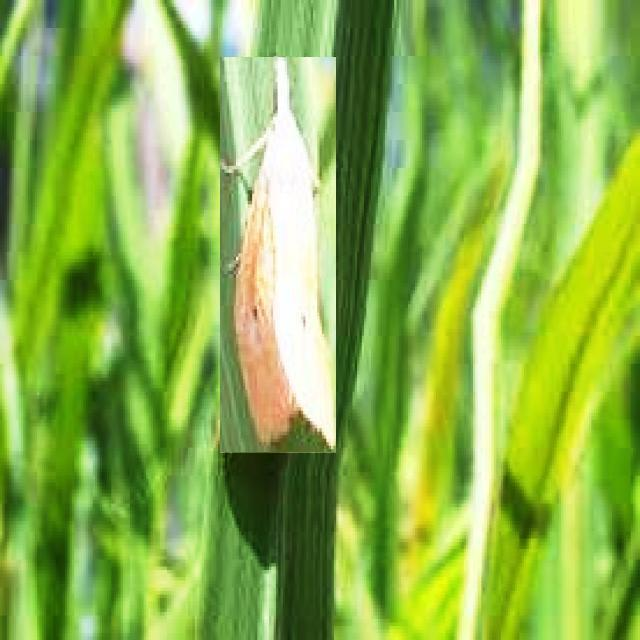stem-borer: (220, 58, 336, 454)
